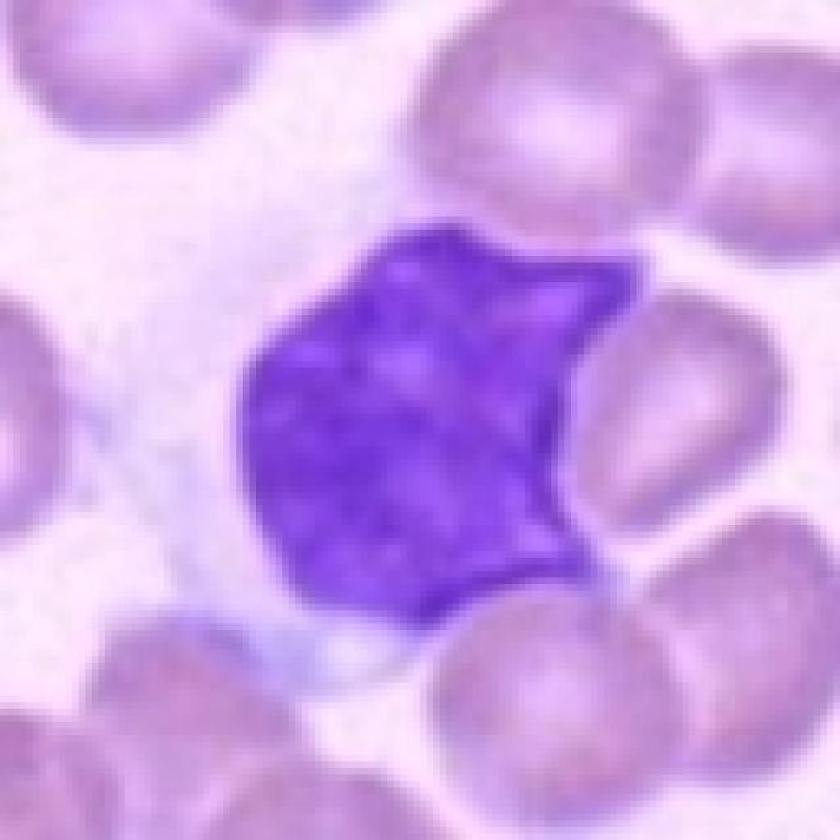lymphocyte: (80, 134, 660, 699)
